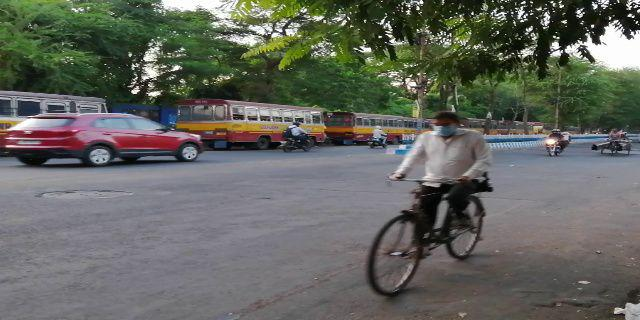Bus: (174, 91, 333, 152), (332, 106, 409, 141)
Car: (6, 104, 206, 173)
Cycle: (354, 108, 489, 300)
Motorbike: (275, 118, 316, 156), (539, 122, 571, 160)
